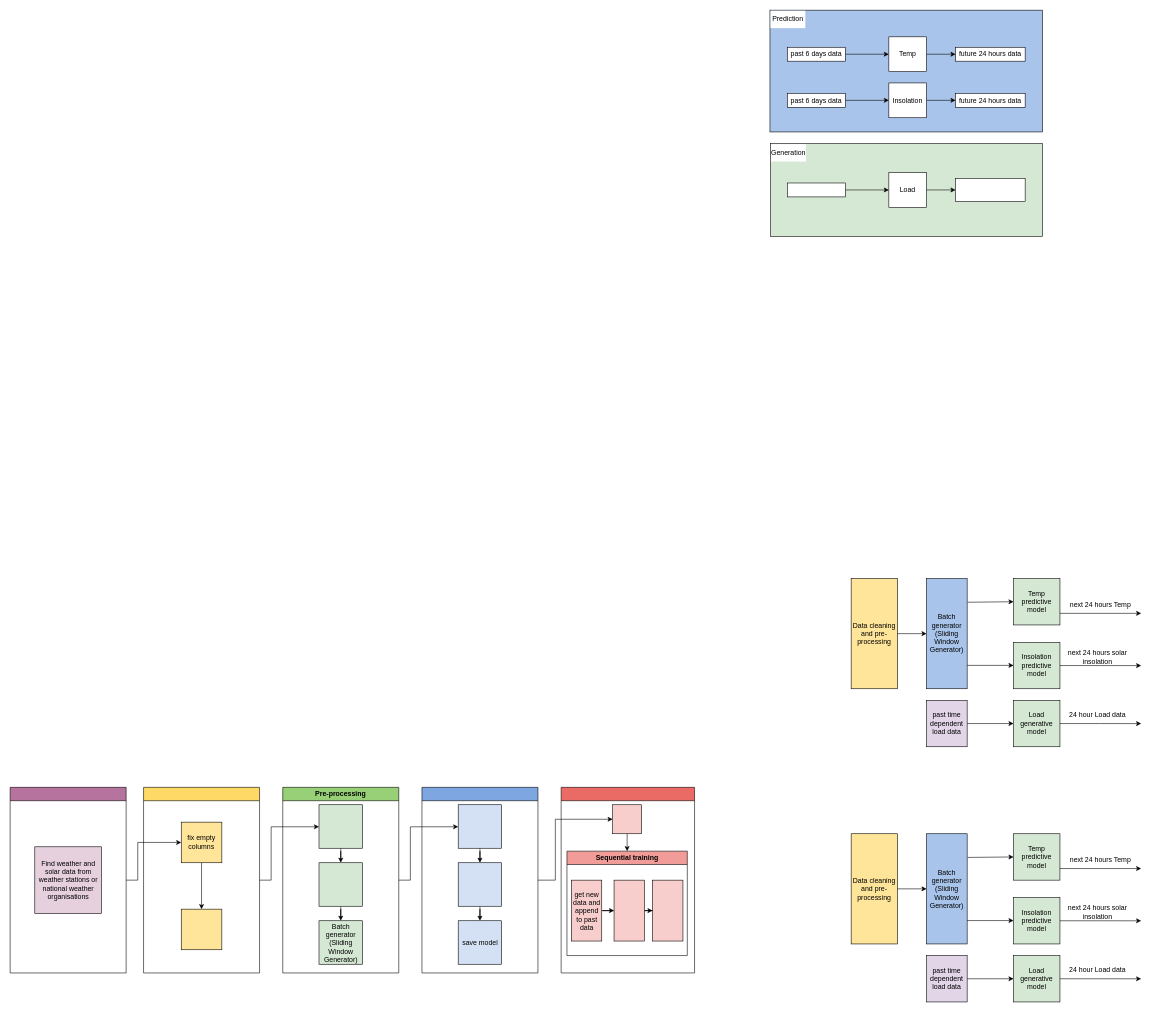
The diagram is 1156 pixels wide and 1012 high, and some of its shapes have lost their labels. Here are the shapes that lost their labels. From the top down, the box of each, then its label:
(787, 182, 845, 197): synthetic data
(955, 178, 1025, 202): similar synthetic data for simulation
(318, 804, 362, 848): remove the columns with high correlation
(458, 804, 502, 848): experiment with different models
(612, 804, 642, 834): load model
(10, 787, 126, 973): Data sourcing
(143, 787, 260, 973): Cleaning
(318, 862, 362, 906): down sample to 1 data /30min
(421, 787, 538, 973): Offline Training
(458, 862, 502, 906): model training and evaluation
(561, 787, 695, 973): Online ML
(181, 909, 222, 950): remove erronous data
(613, 880, 644, 941): retrain model
(652, 880, 683, 941): predict next 24 hours
